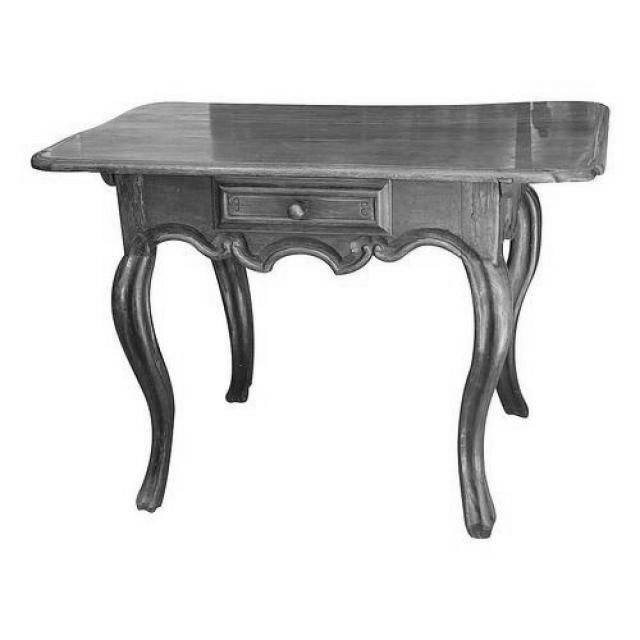table: (32, 97, 612, 537)
